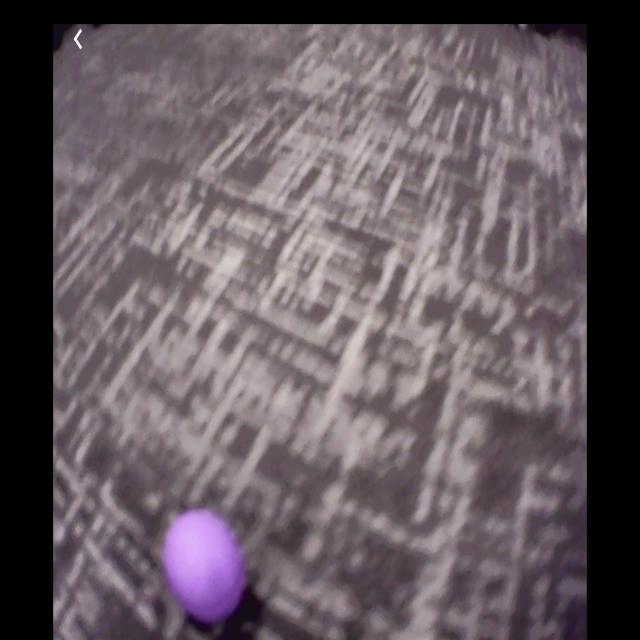ball: (166, 509, 244, 622)
